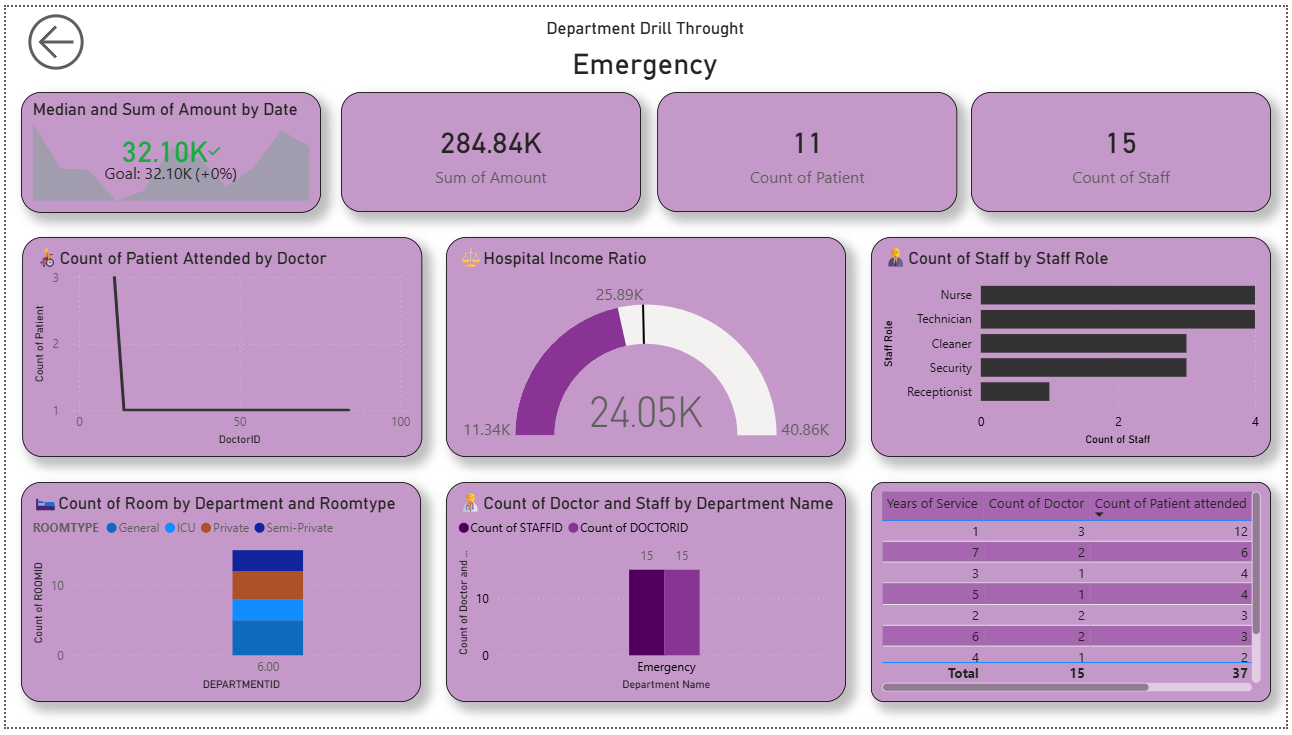

Layout of this report page (visuals, bound fields, positions):
{"tool":"powerbi","page":{"name":"Drill Through","canvas":[1280,720],"ordinal":2},"visuals":[{"type":"tableEx","fields":{"Values":["DOCTOR.Years of Service DOC","DOCTOR.DOCTORID","PATIENTS.PATIENTID","Sum(FACTVISIT.TREATMENTCOST)"]},"box":[865,474.5,399.9,220.1],"z":0},{"type":"clusteredColumnChart","title":"🧑⚕️Count of Doctor and Staff by Department Name","fields":{"Category":["DEPARTMENT.DEPARTMENTNAME"],"Y":["CountNonNull(STAFFS.STAFFID)","CountNonNull(DOCTOR.DOCTORID)"]},"box":[440.2,474.5,399.9,220.1],"z":3000},{"type":"gauge","title":"⚖️Hospital Income Ratio","fields":{"Y":["Median(PAYMENTS.AMOUNT)"],"MinValue":["Min(PAYMENTS.AMOUNT)1"],"MaxValue":["Max(PAYMENTS.AMOUNT)2"],"TargetValue":["Avg(PAYMENTS.AMOUNT)3"]},"box":[440.2,229.9,399.9,220.1],"z":4000},{"type":"kpi","title":"Median and Sum of Amount by Date","fields":{"Indicator":["Median(PAYMENTS.AMOUNT)"],"Goal":["Sum(PAYMENTS.AMOUNT)1"],"TrendLine":["PAYMENTS.PAYMENTDATE"]},"box":[15.4,85,300,120.8],"z":5000},{"type":"card","title":"Department Drill Throught ","fields":{"Values":["Min(DEPARTMENT.DEPARTMENTNAME)"]},"box":[479.2,11.6,321.2,91.2],"z":6000},{"type":"actionButton","box":[15,0,90,70],"z":7000},{"type":"card","fields":{"Values":["Sum(PAYMENTS.AMOUNT)"]},"box":[335,85,300,120],"z":8000},{"type":"card","fields":{"Values":["CountNonNull(PAYMENTS.PATIENTID)"]},"box":[651.7,85,300,120],"z":9000},{"type":"card","fields":{"Values":["CountNonNull(STAFFS.STAFFID)"]},"box":[965,85,300,120],"z":10000},{"type":"columnChart","title":"🛏️Count of Room by Department and Roomtype","fields":{"Category":["ROOM.DEPARTMENTID"],"Y":["CountNonNull(ROOM.ROOMID)"],"Series":["ROOM.ROOMTYPE"]},"box":[14.7,474.5,399.9,220.1],"z":11000},{"type":"lineChart","title":"🧑🦽Count of Patient Attended by Doctor","fields":{"Category":["FACTVISIT.DOCTORID"],"Y":["CountNonNull(FACTVISIT.PATIENTID)"]},"box":[15.9,229.9,399.9,220.1],"z":12000},{"type":"barChart","title":"🧑💼Count of Staff by Staff Role","fields":{"Category":["STAFFS.ROLE"],"Y":["CountNonNull(STAFFS.NAME)"]},"box":[865.4,230,400,220],"z":13000}]}

Visuals, with their boxes in screenshot pixels (x1, y1, x2, y2), scaled from the page's 1280x720 canvas onto the 1292x735 screenshot:
tableEx - DOCTOR.Years of Service DOC x DOCTOR.DOCTORID: box(873, 484, 1277, 709)
"🧑⚕️Count of Doctor and Staff by Department Name" clusteredColumnChart: box(444, 484, 848, 709)
"⚖️Hospital Income Ratio" gauge: box(444, 235, 848, 459)
"Median and Sum of Amount by Date" kpi: box(16, 87, 318, 210)
"Department Drill Throught " card: box(484, 12, 808, 105)
actionButton: box(15, 0, 106, 71)
card - Sum(PAYMENTS.AMOUNT): box(338, 87, 641, 209)
card - CountNonNull(PAYMENTS.PATIENTID): box(658, 87, 961, 209)
card - CountNonNull(STAFFS.STAFFID): box(974, 87, 1277, 209)
"🛏️Count of Room by Department and Roomtype" columnChart: box(15, 484, 418, 709)
"🧑🦽Count of Patient Attended by Doctor" lineChart: box(16, 235, 420, 459)
"🧑💼Count of Staff by Staff Role" barChart: box(874, 235, 1277, 459)
